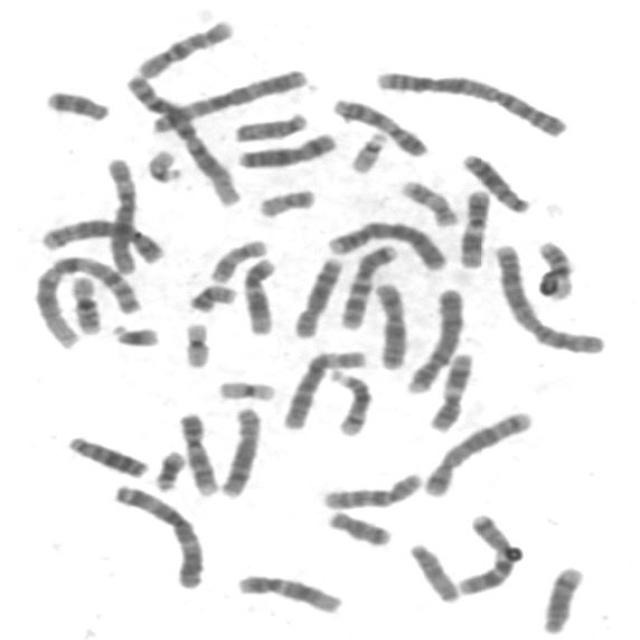A1: (119, 68, 245, 208), (26, 247, 143, 348)
A2: (369, 63, 572, 138), (487, 237, 610, 356)
A3: (143, 62, 312, 135), (105, 478, 208, 590)
B4: (399, 281, 468, 396), (320, 214, 451, 272)
B5: (416, 404, 537, 499), (32, 212, 169, 265)
C10: (129, 12, 238, 80), (314, 465, 428, 512)
C11: (423, 346, 477, 434), (452, 184, 493, 270)
C12: (229, 566, 346, 616), (236, 252, 280, 337)
C6: (276, 343, 369, 432), (99, 150, 142, 276)
C7: (450, 507, 521, 597), (334, 237, 401, 331)
C8: (286, 250, 347, 340), (214, 400, 265, 500)
C9: (325, 91, 432, 159), (172, 406, 222, 497)
D13: (455, 147, 535, 216), (59, 428, 151, 480)
D14: (321, 363, 375, 438), (535, 559, 587, 636)
D15: (403, 537, 463, 604), (227, 105, 311, 144)
E16: (530, 234, 578, 302), (63, 268, 104, 335)
E17: (394, 173, 461, 228), (202, 232, 272, 284)
E18: (320, 504, 395, 548), (38, 83, 113, 123)
F19: (210, 373, 280, 403), (176, 315, 213, 370)
F20: (251, 181, 320, 219), (182, 278, 240, 314)
G21: (148, 444, 188, 493), (105, 317, 163, 349)
G22: (342, 125, 392, 175), (140, 142, 186, 184)
X: (230, 126, 340, 170), (366, 276, 412, 370)
